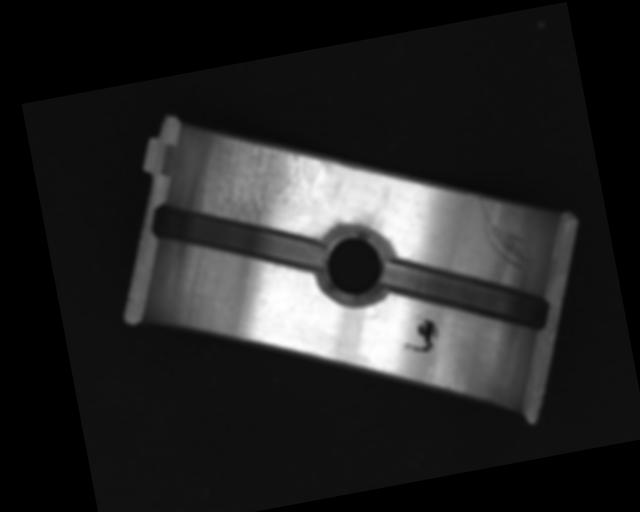blot: (398, 316, 441, 358)
gap: (143, 175, 328, 298), (376, 233, 555, 358)
hole: (312, 224, 397, 310)
nick: (476, 187, 535, 280)
scratch: (206, 117, 335, 228)
